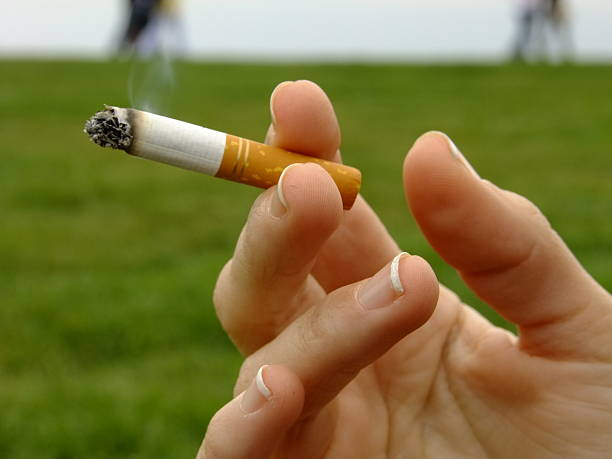cigarette: (84, 102, 357, 211)
